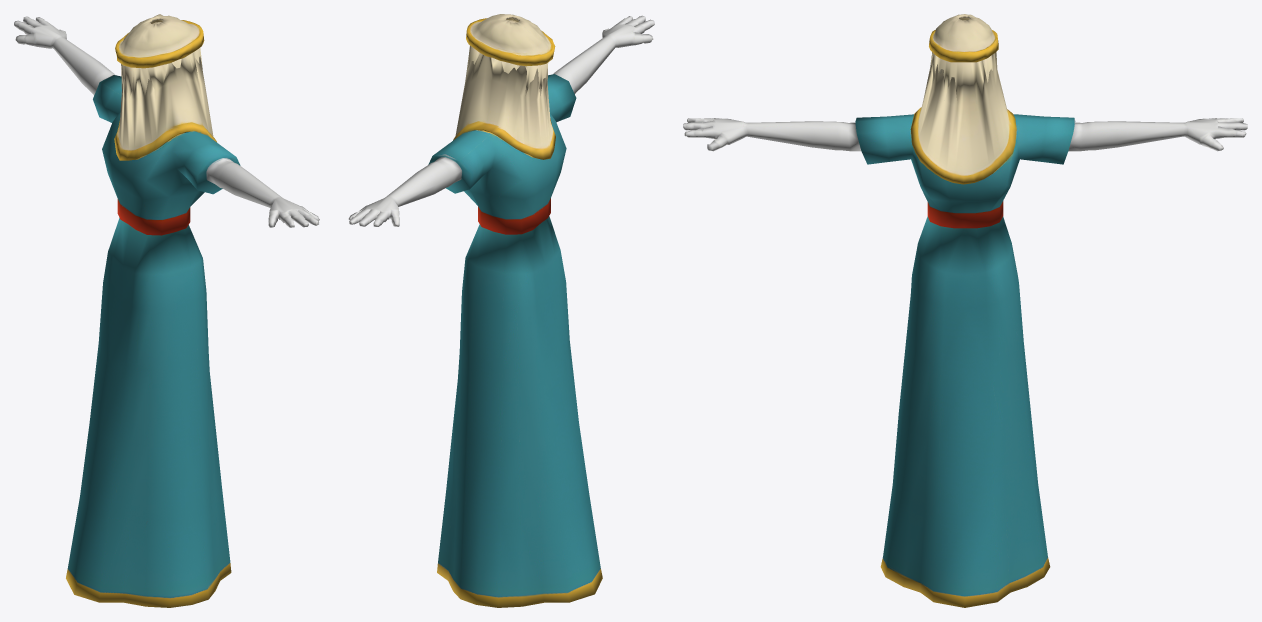
3 renders of one model, left to right at view 1: azimuth 30°, elevation 25°; view 2: azimuth 150°, elevation 25°; view 3: azimuth 270°, elevation 25°, orthographic.
Visible parts, largest first — view 1: tripo_node_26506788-3900-4b1b-b690-dde739b0fc21; view 2: tripo_node_26506788-3900-4b1b-b690-dde739b0fc21; view 3: tripo_node_26506788-3900-4b1b-b690-dde739b0fc21.
Part boxes in pixels (x1,y1,x2,y2): tripo_node_26506788-3900-4b1b-b690-dde739b0fc21: (14, 14, 319, 607); tripo_node_26506788-3900-4b1b-b690-dde739b0fc21: (348, 14, 654, 607); tripo_node_26506788-3900-4b1b-b690-dde739b0fc21: (683, 14, 1247, 607).
Bounding box in the file's own units: 0.2832 × 0.998 × 0.916.
1 material, 1 textured.
